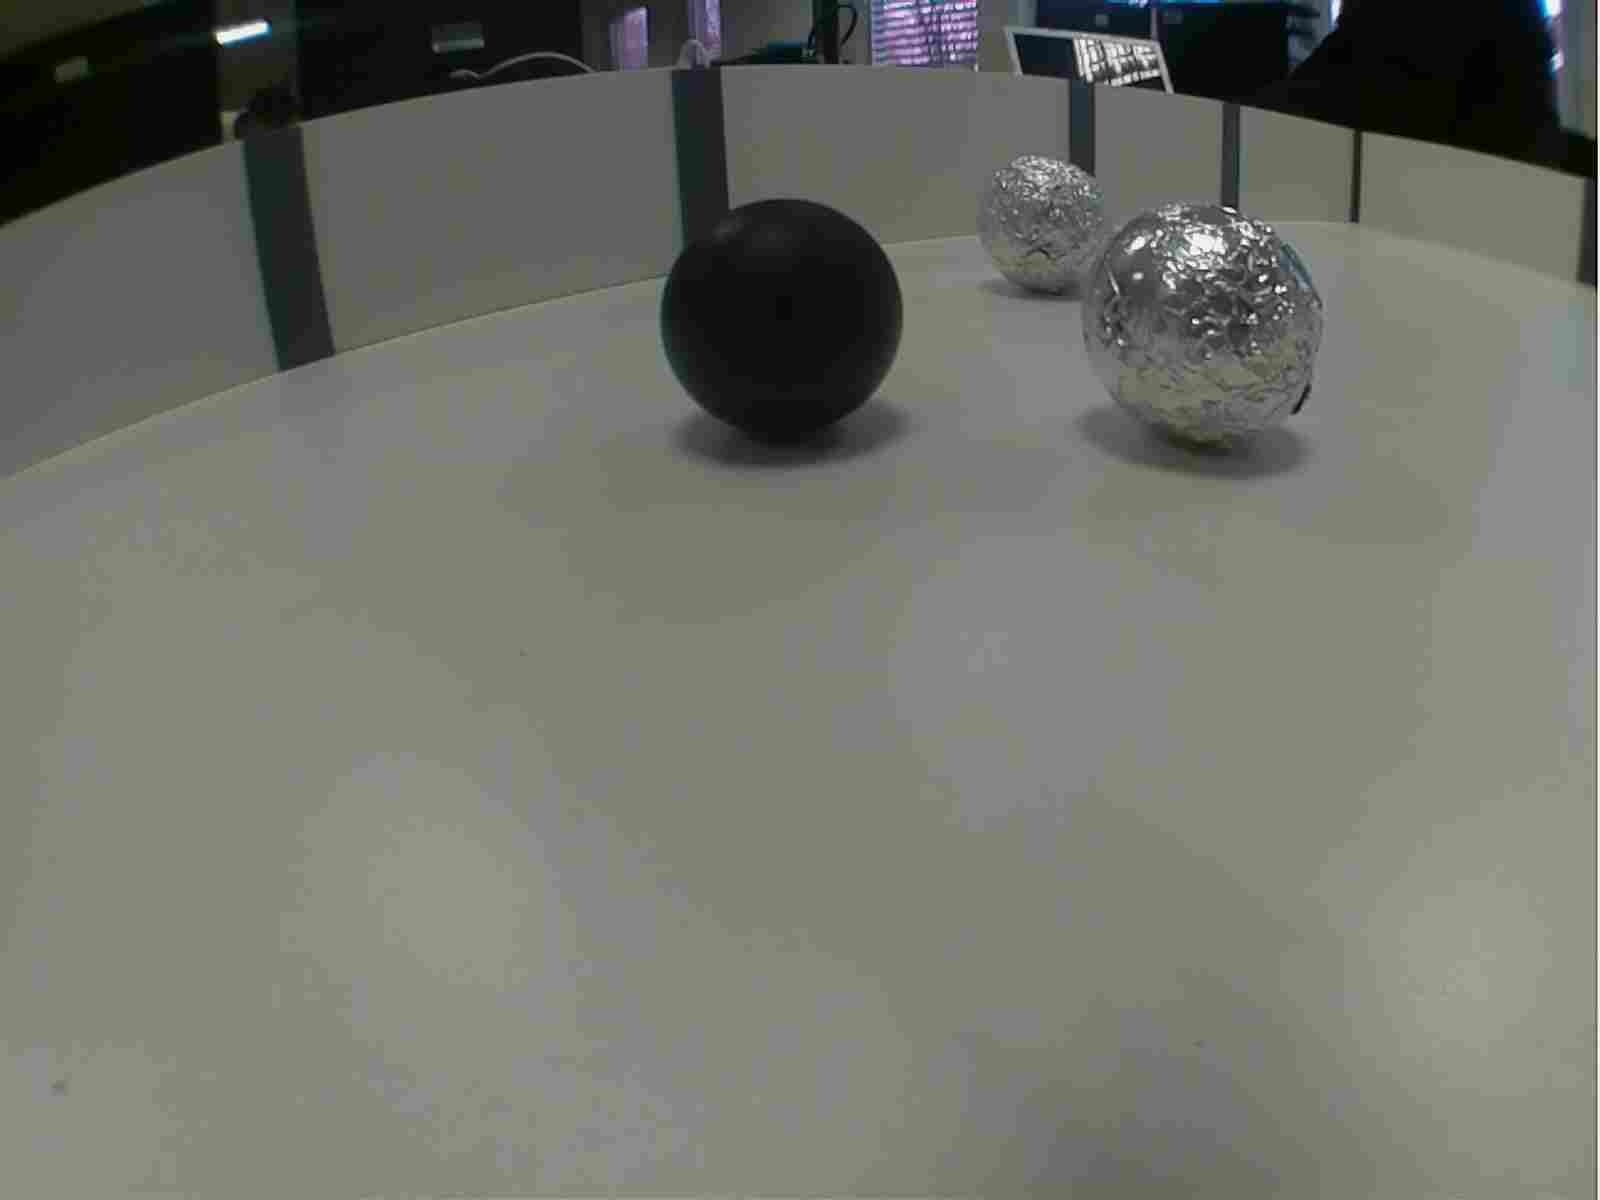bianca: (1077, 199, 1329, 453), (975, 153, 1123, 300)
nera: (658, 195, 910, 451)
